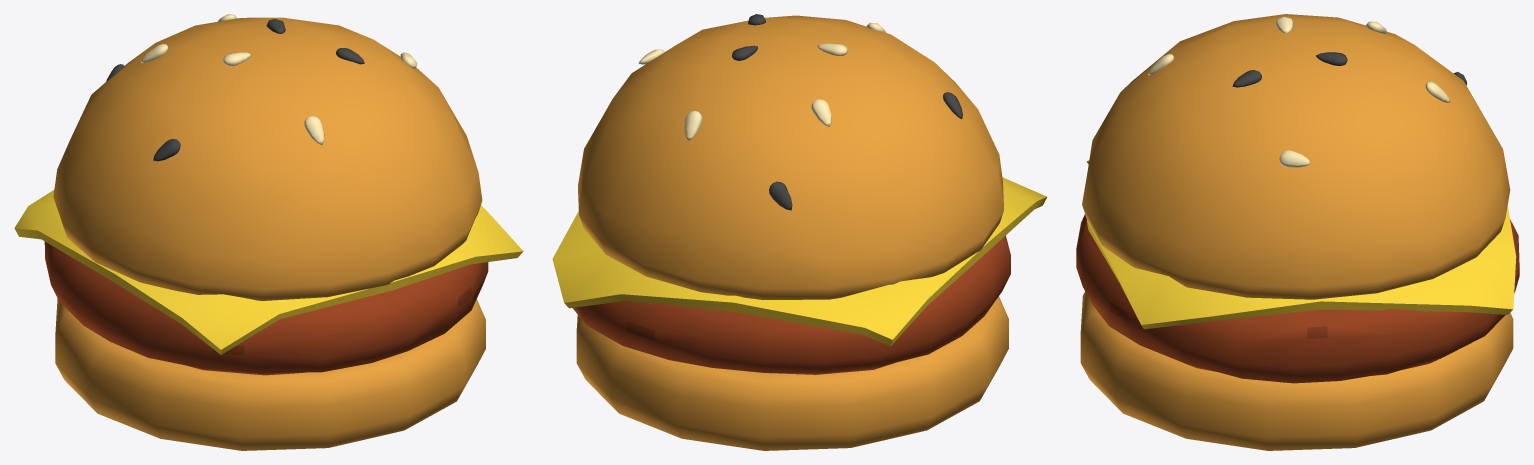
The model's file is Hamburger.fbx.
3 renders of one model, left to right at view 1: azimuth 30°, elevation 25°; view 2: azimuth 150°, elevation 25°; view 3: azimuth 270°, elevation 25°, orthographic.
Parts seen in each view (by area): view 1: Hamburger; view 2: Hamburger; view 3: Hamburger.
Part boxes in pixels (x1,y1,x2,y2): Hamburger: (14,14,523,450); Hamburger: (552,14,1047,450); Hamburger: (1076,14,1519,450).
Bounding box in the file's own units: 137 × 115 × 139.
1 material, 1 textured.
